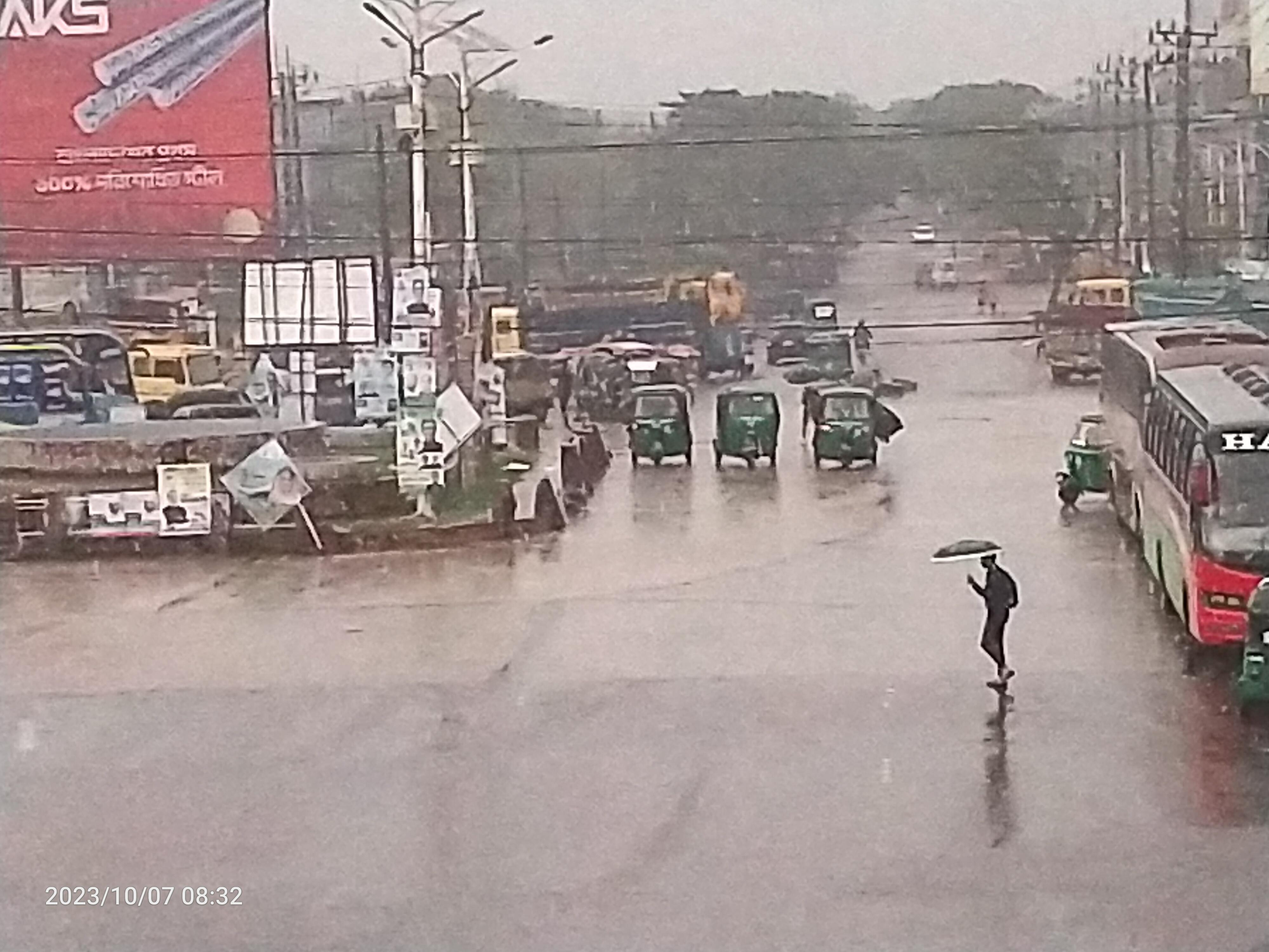Bus: (1109, 359, 1269, 668), (0, 307, 149, 429)
Truck: (500, 246, 743, 356), (1059, 261, 1267, 346), (112, 311, 234, 411)
